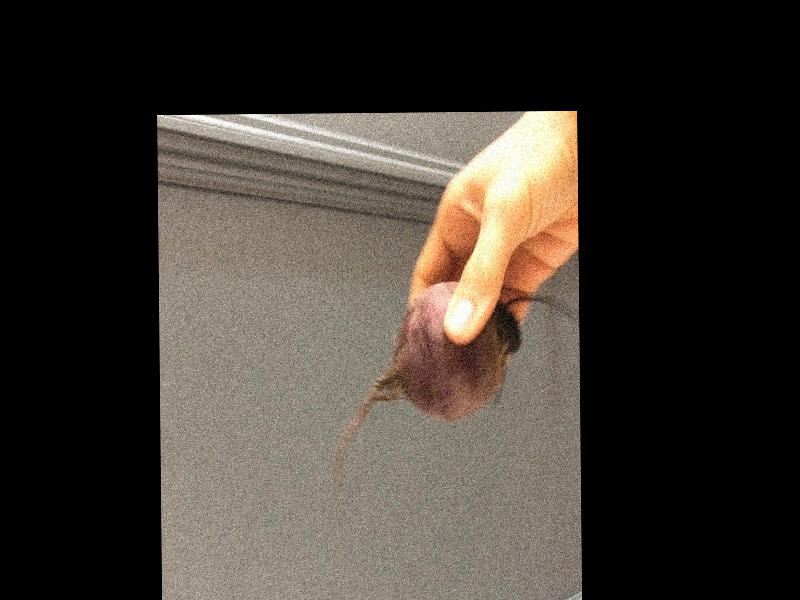Beet: (331, 280, 581, 492)
